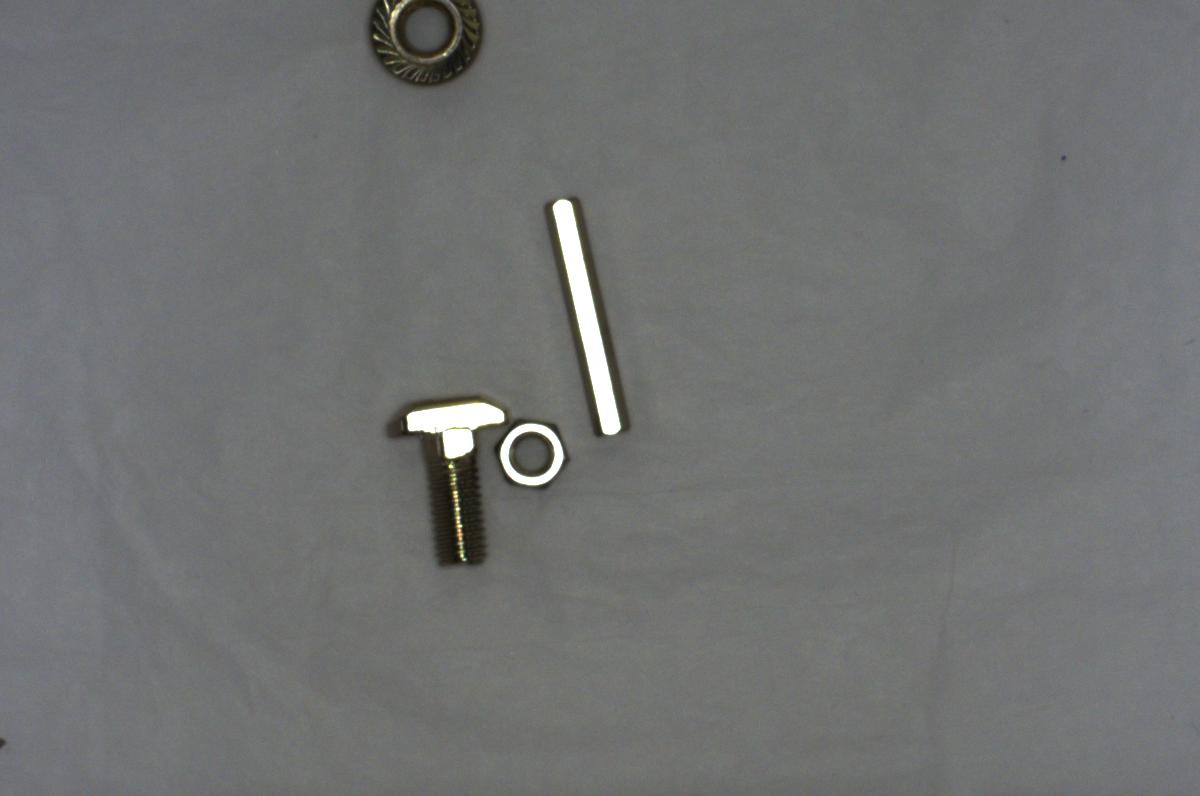Double hexagonal column: (540, 193, 627, 441)
Flange nut: (358, 6, 506, 90)
Hexagon nut: (493, 412, 573, 490)
T-shaped screw: (386, 387, 513, 572)
